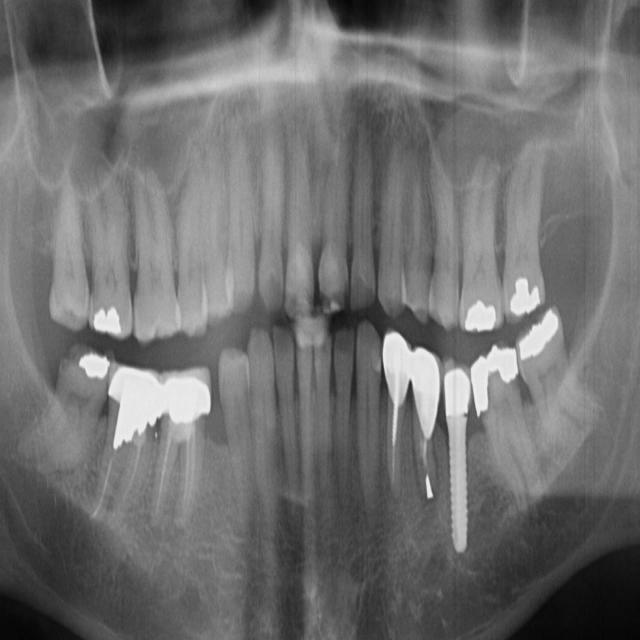dentin-curugu: (352, 273, 378, 313), (322, 290, 348, 313), (266, 282, 284, 313)
dolgu: (512, 302, 565, 361), (472, 352, 522, 404), (504, 281, 544, 315), (470, 294, 497, 342)
implant: (438, 352, 478, 558)
kanal-tedavisi: (95, 416, 149, 539), (156, 422, 211, 528), (378, 393, 414, 496), (410, 407, 441, 521)
kaplama: (102, 359, 162, 428), (158, 365, 215, 427), (375, 324, 412, 398), (409, 339, 439, 427)
kirik: (90, 302, 126, 338), (77, 353, 113, 377)
